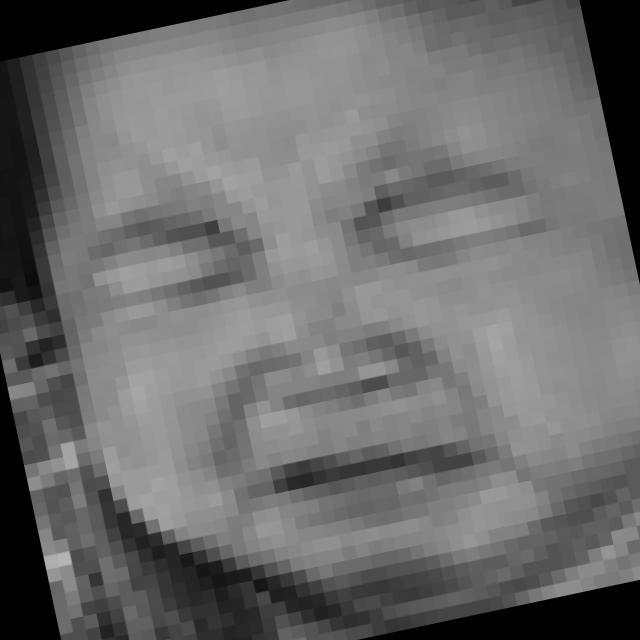sad: (73, 108, 624, 574)
